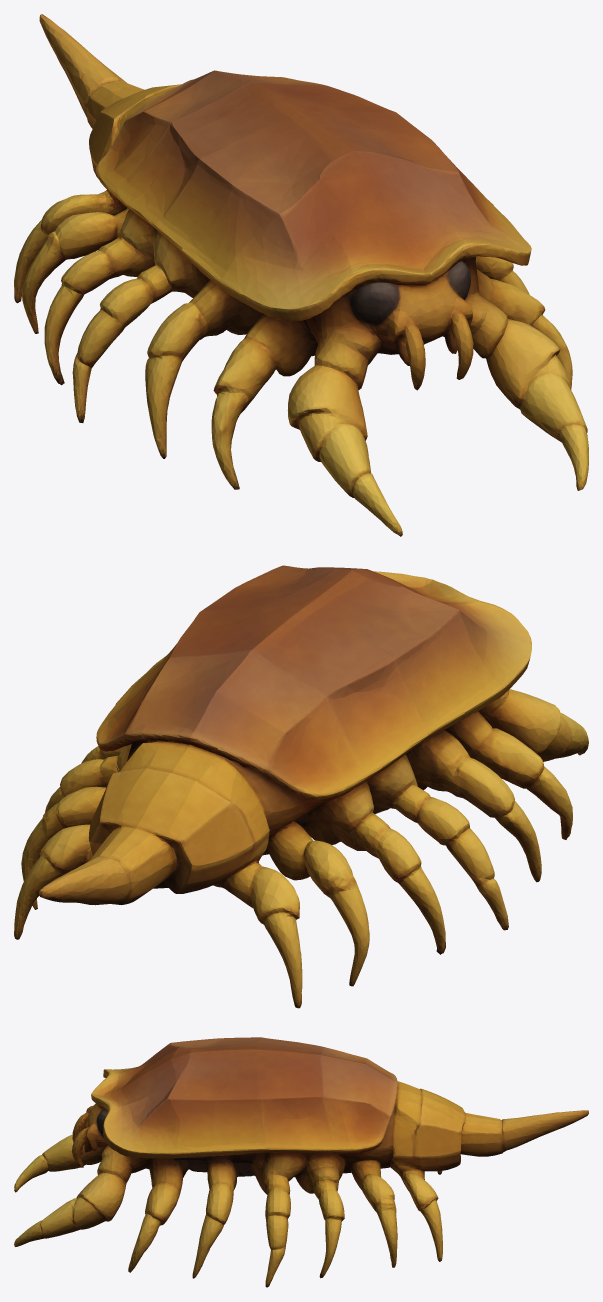
3 renders of one model, top to bottom at view 1: azimuth 30°, elevation 25°; view 2: azimuth 150°, elevation 25°; view 3: azimuth 270°, elevation 25°, orthographic. The views are drawn at different scales.
Visible parts, largest first — view 1: world; view 2: world; view 3: world.
Part boxes in pixels (left/top/right/bottom): world: left=14, top=14, right=588, bottom=536; world: left=14, top=565, right=588, bottom=1008; world: left=14, top=1037, right=588, bottom=1287.
Bounding box in the file's own units: 0.5534 × 0.3294 × 1.
Materials: 1 (1 with a texture image).
